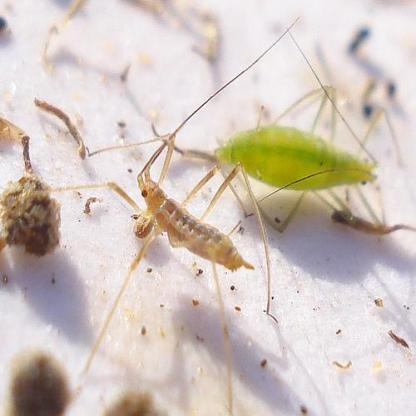aphid: (82, 121, 266, 396), (200, 73, 390, 232)
